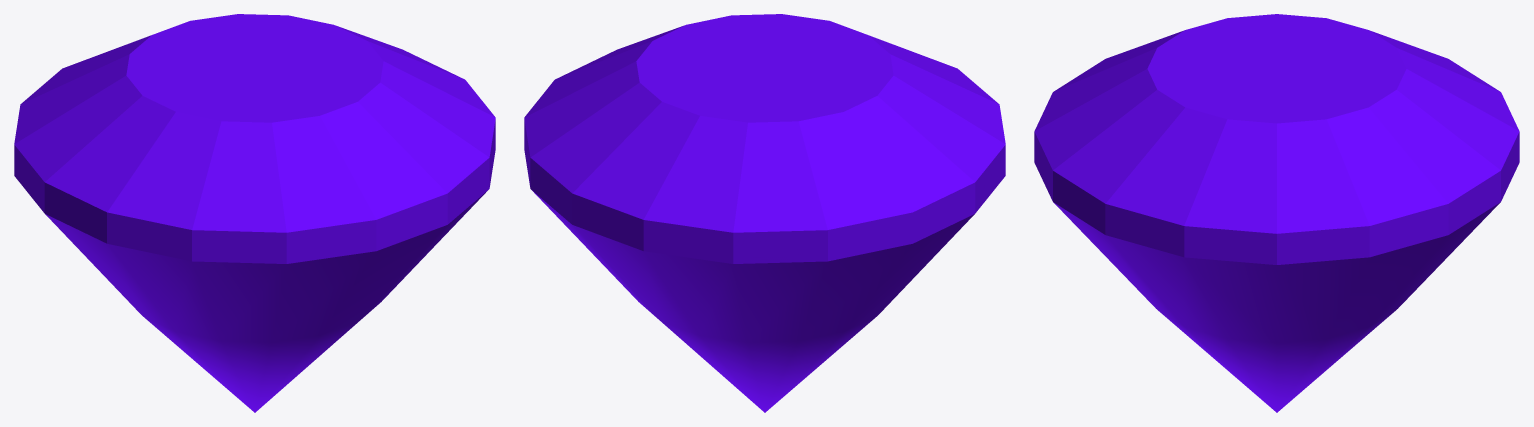
The model's file is Purple Gem.FBX.
3 views of the same model, side by side, from view 1: azimuth 30°, elevation 25°; view 2: azimuth 150°, elevation 25°; view 3: azimuth 270°, elevation 25° (orthographic).
Visible parts, largest first — view 1: Purple Gem; view 2: Purple Gem; view 3: Purple Gem.
Boxes of the visible parts, bbox=[...] form: Purple Gem: bbox=[14, 14, 495, 412]; Purple Gem: bbox=[524, 14, 1005, 412]; Purple Gem: bbox=[1034, 14, 1519, 412].
Size of the model in its own units: 0.1 by 0.0783 by 0.1.
